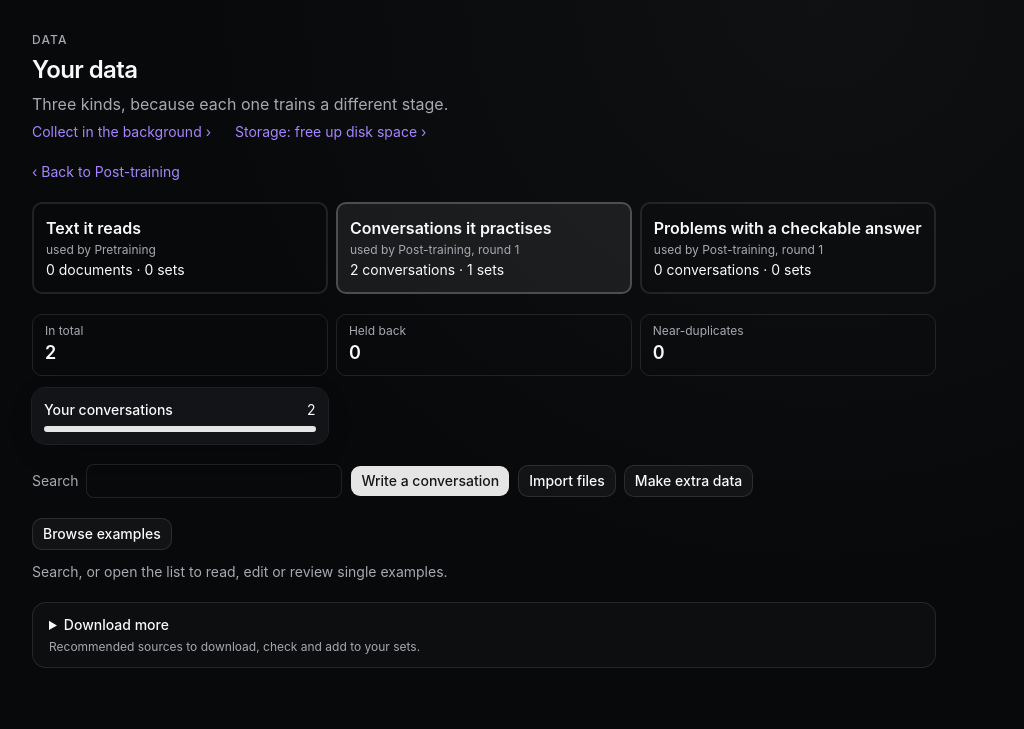
Test: Your data page › Write a conversation opens the add form under the toolbar
What coordinates should you click on to do the following:
click the button "Write a conversation"
I would click on:
 (430, 481)
Its box is top-left (350, 465), bottom-right (510, 497).
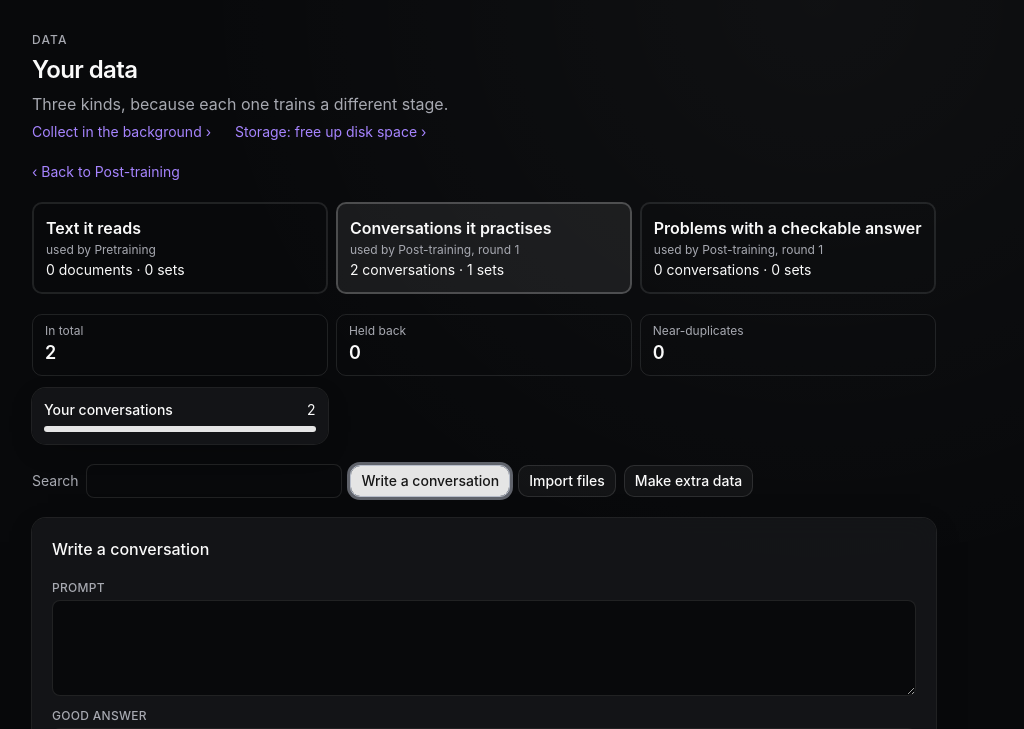
Check: the text box labelled "Prompt" is shown, box top-left (52, 600), bottom-right (916, 696)
